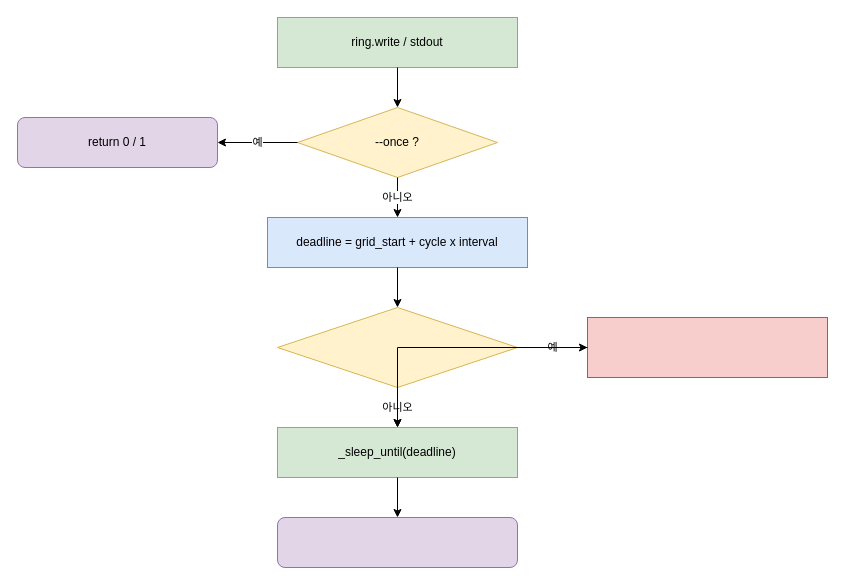
Some shapes in this 845 by 585 pixel diagram are drawn without their labels. The box of each missing label's shape, as (x1, y1, x2, y2) in pixels:
deadline 이 이미 지났나: (276, 306, 518, 388)
루프 선두로: (276, 516, 518, 568)
밀린 칸 건너뛰기 (따라잡기 금지): (586, 316, 828, 378)
